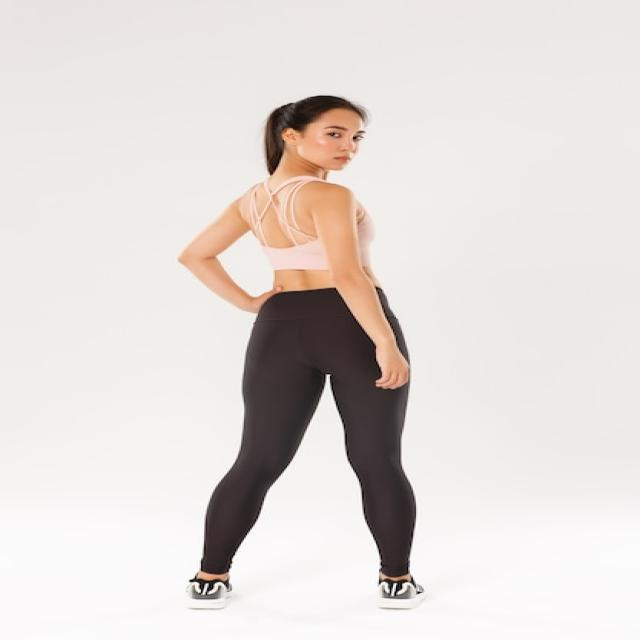Person: (180, 94, 426, 611)
